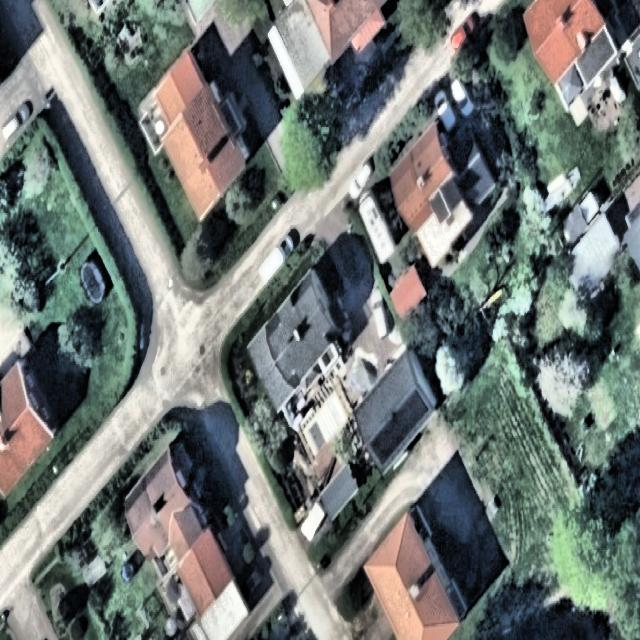roof_pv: (373, 416, 413, 468), (399, 389, 429, 441)
